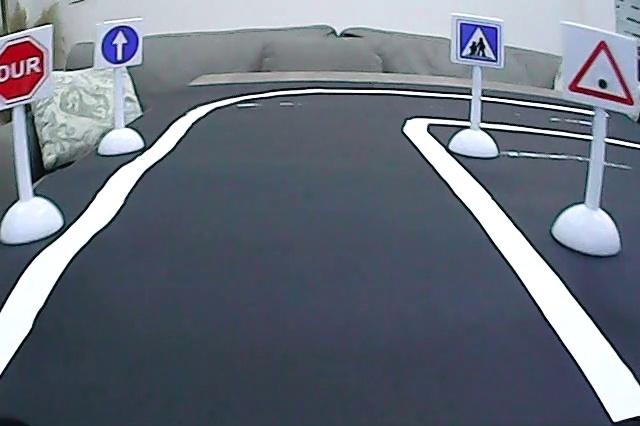green light: (565, 35, 637, 113)
school crossing: (456, 20, 501, 67)
stop sign: (1, 34, 50, 107)
